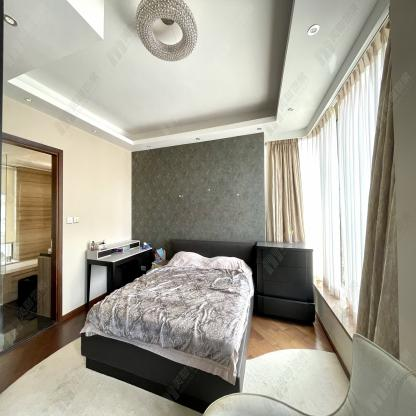Bed: (79, 236, 257, 413)
Desk: (79, 225, 155, 279)
